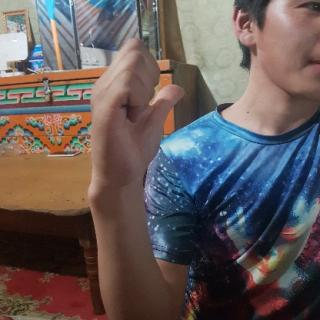WAW: (78, 34, 192, 208)
